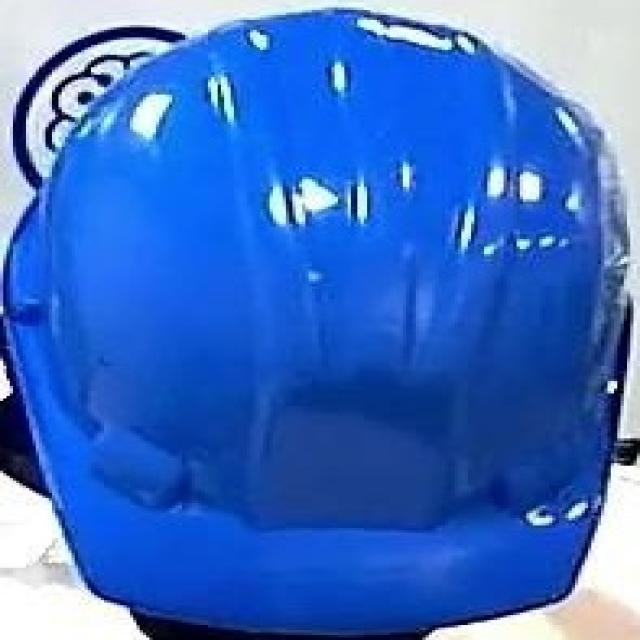helmet: (5, 10, 625, 640)
